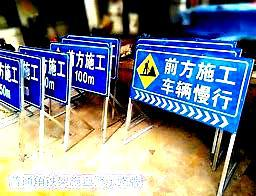sign: (134, 52, 245, 114), (72, 48, 107, 91), (1, 58, 21, 112), (45, 53, 66, 101), (23, 57, 42, 107)
